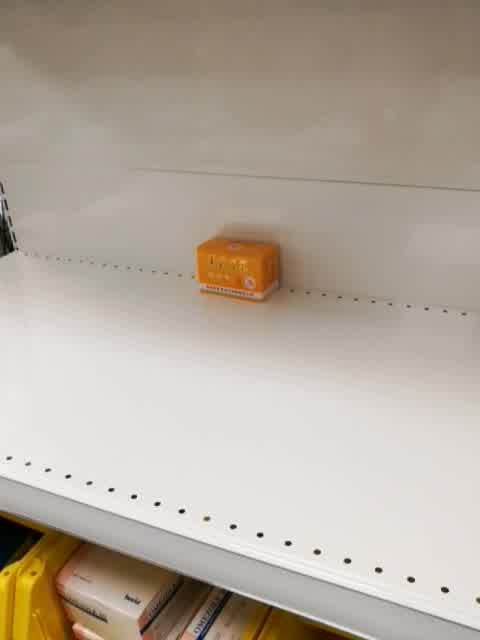jasminetea: (195, 233, 283, 305)
